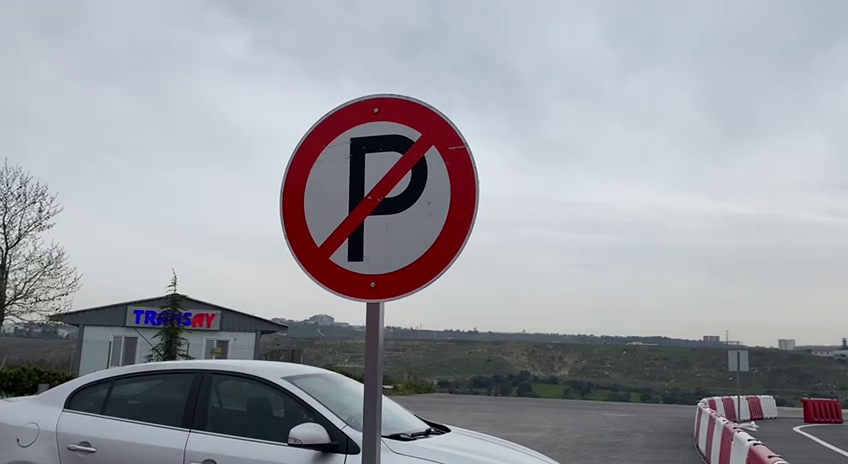noparking: (276, 92, 483, 308)
